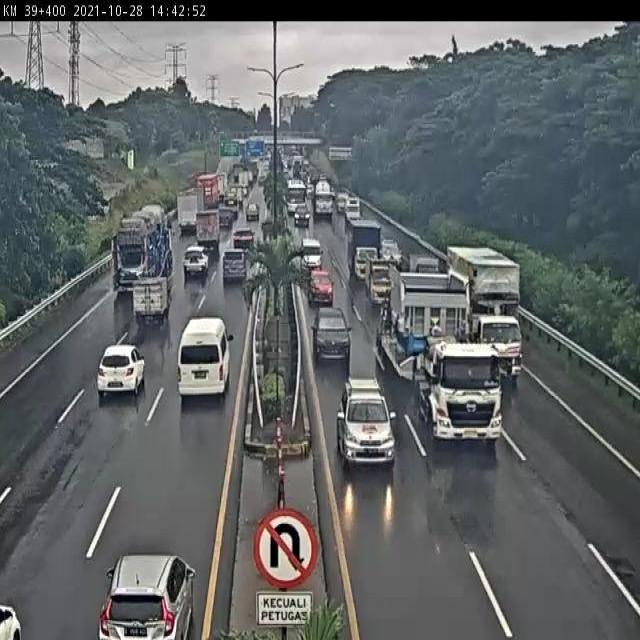big truck: (111, 208, 173, 299)
bus-s-: (299, 235, 323, 273)
car: (98, 553, 194, 640), (333, 376, 396, 463), (176, 320, 232, 400), (96, 342, 145, 398), (312, 308, 353, 361), (308, 269, 335, 307), (221, 248, 248, 285), (378, 237, 403, 275), (183, 247, 209, 280)
small truck: (130, 277, 170, 327)
truck-l-: (446, 242, 524, 382)
truck-m-: (346, 221, 380, 280), (366, 255, 398, 302)
truck-xl-: (378, 266, 503, 446)
